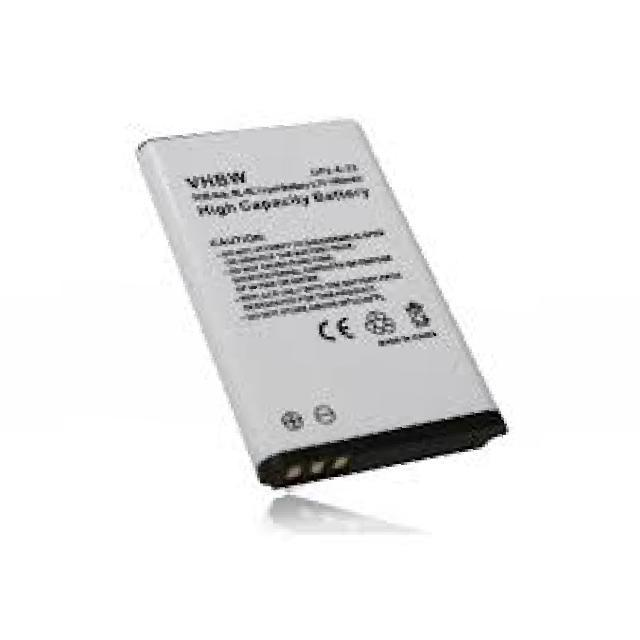Battery: (114, 108, 518, 498)
